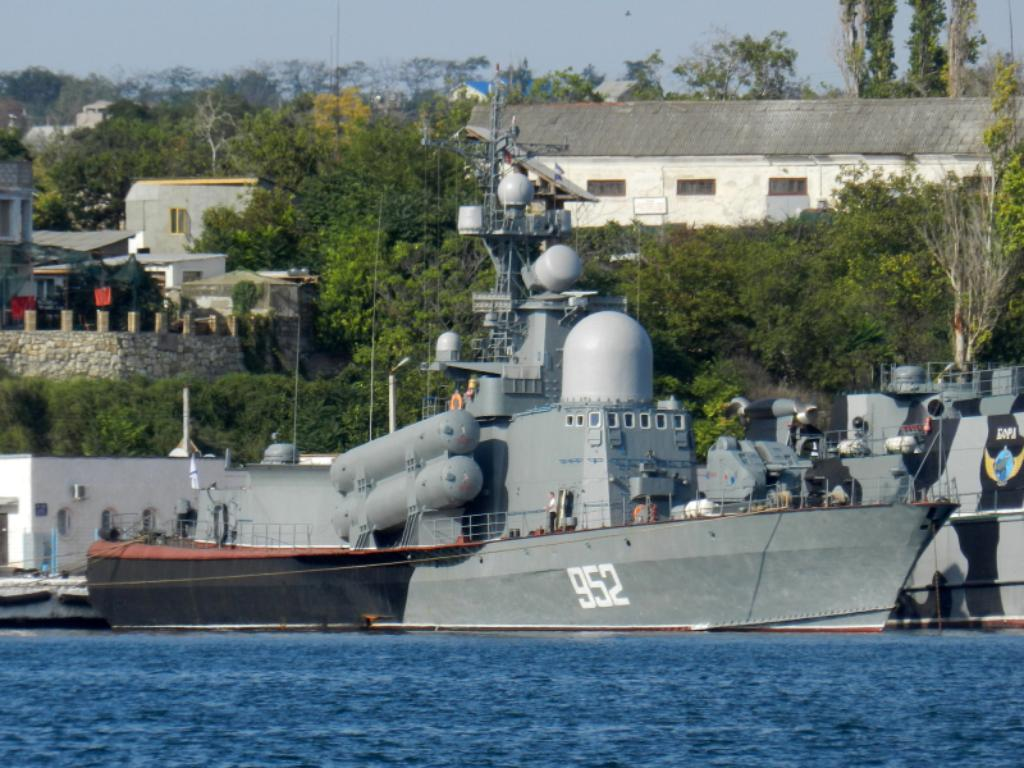Warship: (78, 84, 960, 636)
